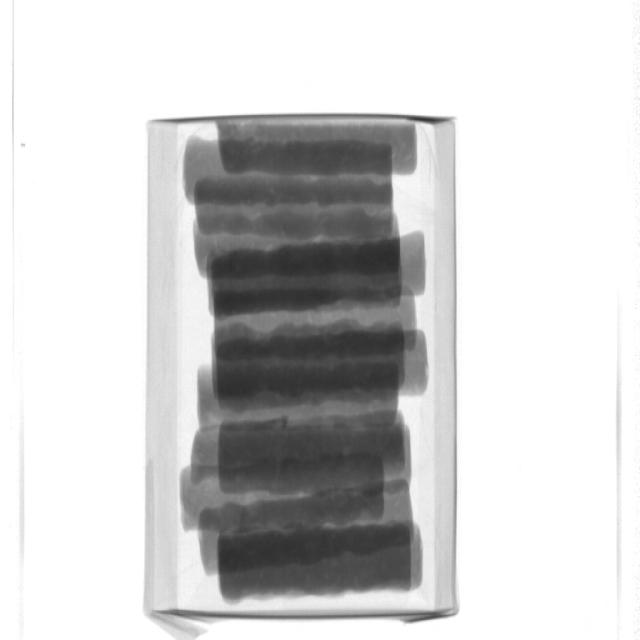ym: (281, 415, 291, 431)
